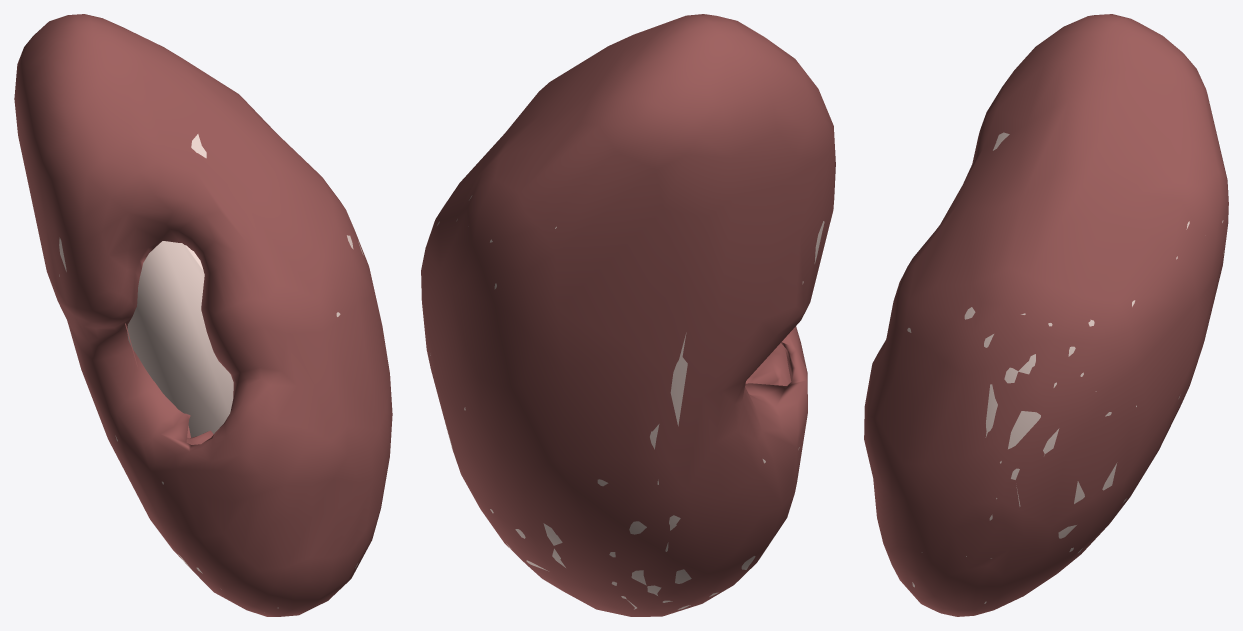
File: vh_f_kidney_l-20.glb
The picture shows the model from 3 angles, left to right: view 1: azimuth 30°, elevation 25°; view 2: azimuth 150°, elevation 25°; view 3: azimuth 270°, elevation 25°; orthographic projection. The views are drawn at different scales.
Visible parts, largest first — view 1: VH_F_kidney_capsule_L, VH_F_renal_column_L; view 2: VH_F_kidney_capsule_L, VH_F_outer_cortex_of_kidney_L, VH_F_hilum_of_kidney_L; view 3: VH_F_kidney_capsule_L, VH_F_outer_cortex_of_kidney_L.
Part boxes in pixels (x1,y1,x2,y2): VH_F_kidney_capsule_L: (14,14,392,616); VH_F_renal_column_L: (127,241,233,437); VH_F_kidney_capsule_L: (421,14,835,616); VH_F_outer_cortex_of_kidney_L: (430,195,824,609); VH_F_hilum_of_kidney_L: (745,343,791,385); VH_F_kidney_capsule_L: (864,14,1228,616); VH_F_outer_cortex_of_kidney_L: (907,132,1224,603).
Bounding box in the file's own units: 0.0731 × 0.125 × 0.0774.
